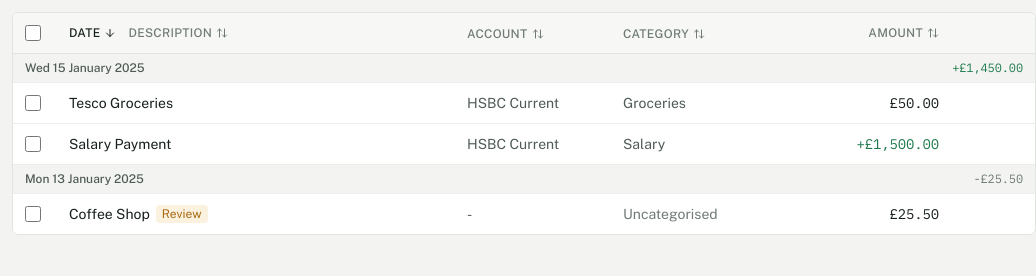
it: TransactionTable › selection › toggles a single row
Click the checkbox named "Select Coffee Shop".
click(33, 214)  # box [25,206,41,222]
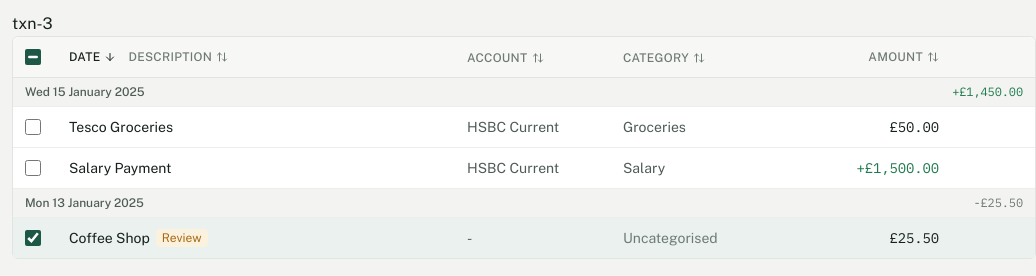
Expected: the text with test id "selected" reads "txn-3", [12,14,53,33]
